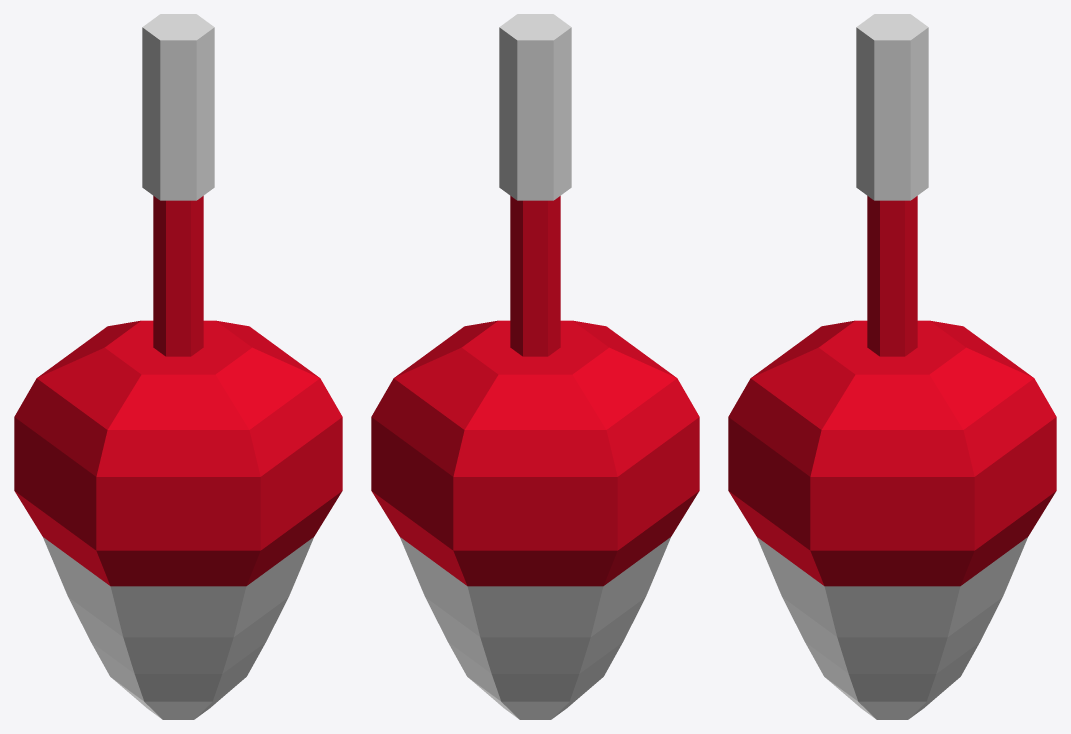
Rendered from BoiaPescaria.fbx.
3 renders of one model, left to right at view 1: azimuth 30°, elevation 25°; view 2: azimuth 150°, elevation 25°; view 3: azimuth 270°, elevation 25°, orthographic.
Parts seen in each view (by area): view 1: Cylinder; view 2: Cylinder; view 3: Cylinder.
Part boxes in pixels (<box>): Cylinder: <box>14,14,342,719</box>; Cylinder: <box>371,14,699,719</box>; Cylinder: <box>728,14,1056,719</box>.
Size of the model in its own units: 173 by 458 by 200.
